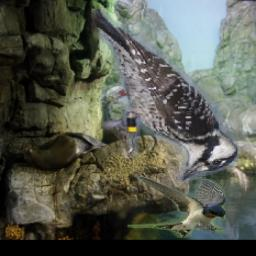Swallow: (129, 175, 226, 239)
Woodpecker: (91, 10, 238, 183)
